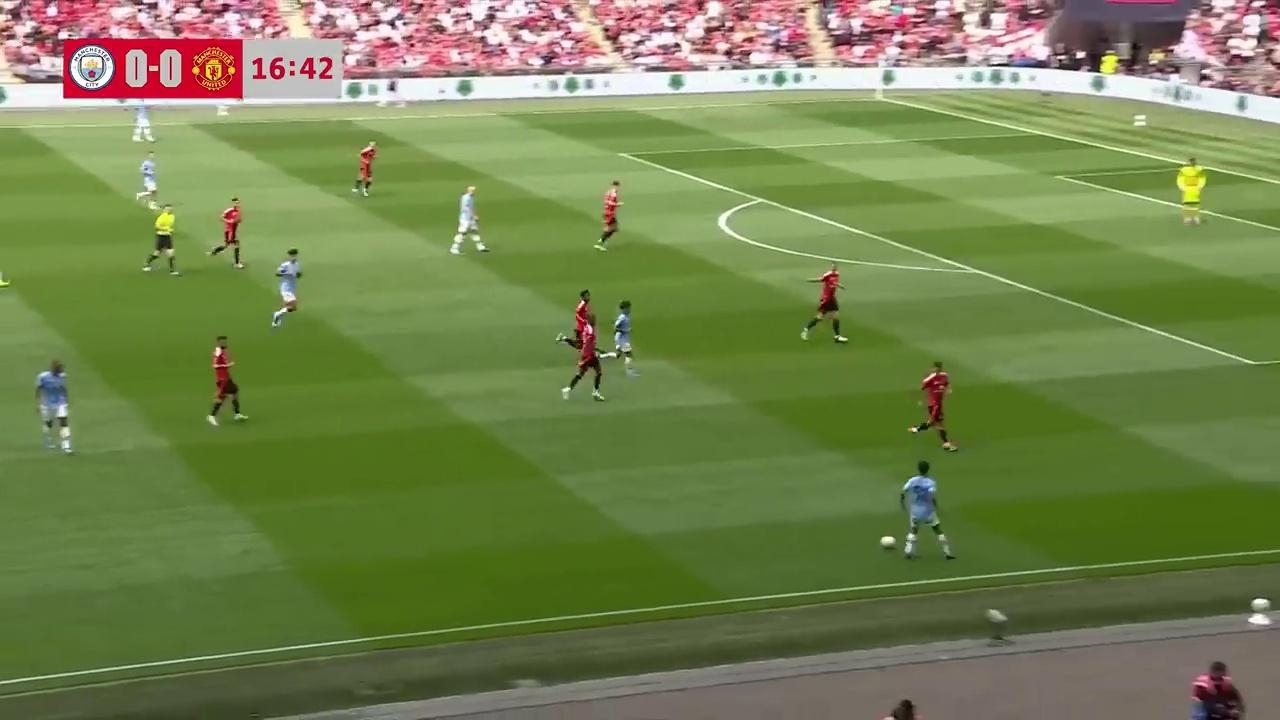ball: (877, 531, 898, 549)
player: (897, 460, 955, 560), (559, 313, 609, 408), (907, 362, 958, 451), (205, 336, 250, 427), (799, 262, 848, 344), (34, 359, 73, 453), (449, 184, 489, 256), (206, 196, 244, 269), (271, 248, 302, 328), (563, 287, 594, 359), (610, 301, 638, 377), (1176, 156, 1205, 225), (595, 180, 623, 251), (352, 141, 377, 197), (135, 152, 158, 208), (131, 96, 154, 144)
referee: (141, 203, 179, 276)
